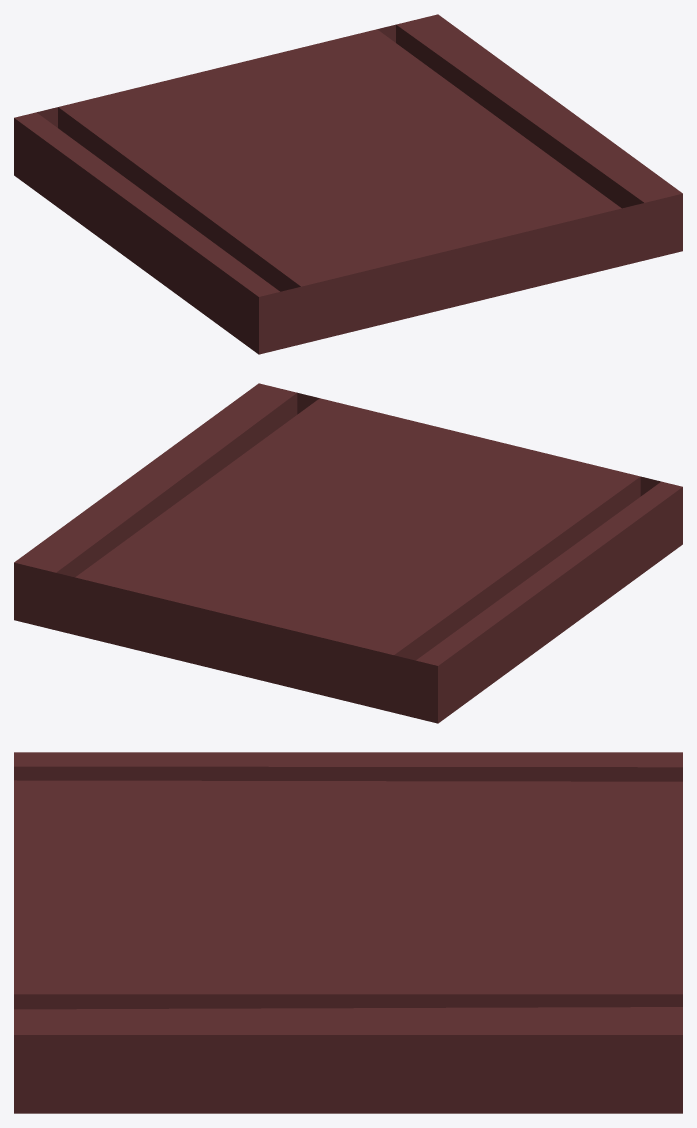
File: tabla.fbx
3 renders of one model, top to bottom at view 1: azimuth 30°, elevation 25°; view 2: azimuth 150°, elevation 25°; view 3: azimuth 270°, elevation 25°, orthographic. The views are drawn at different scales.
Visible parts, largest first — view 1: Plane; view 2: Plane; view 3: Plane.
Boxes of the visible parts, left/top/right/bottom form: Plane: left=14, top=14, right=682, bottom=354; Plane: left=14, top=383, right=682, bottom=723; Plane: left=14, top=752, right=682, bottom=1113.
Bounding box in the file's own units: 200 × 25.97 × 200.
